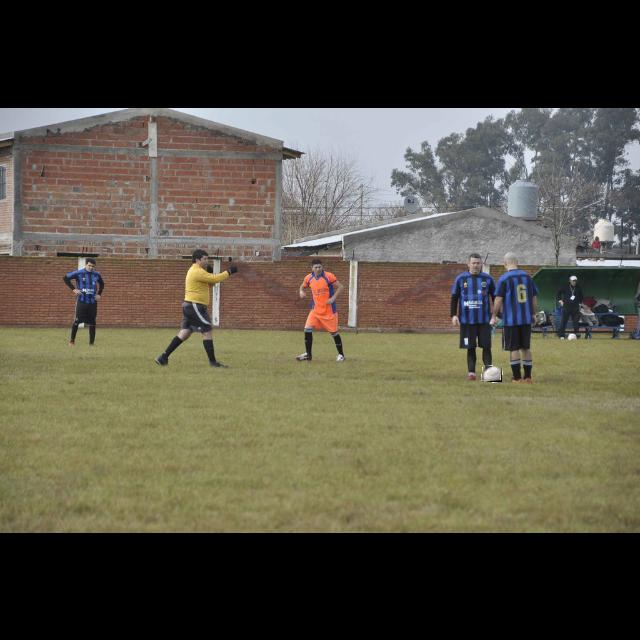Football: (482, 366, 502, 382)
